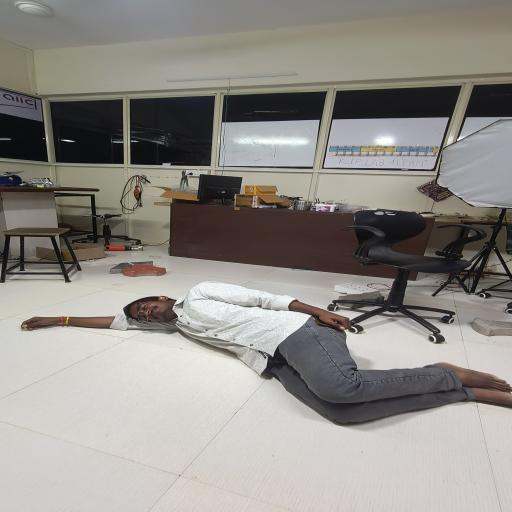survivor: (20, 281, 512, 425)
